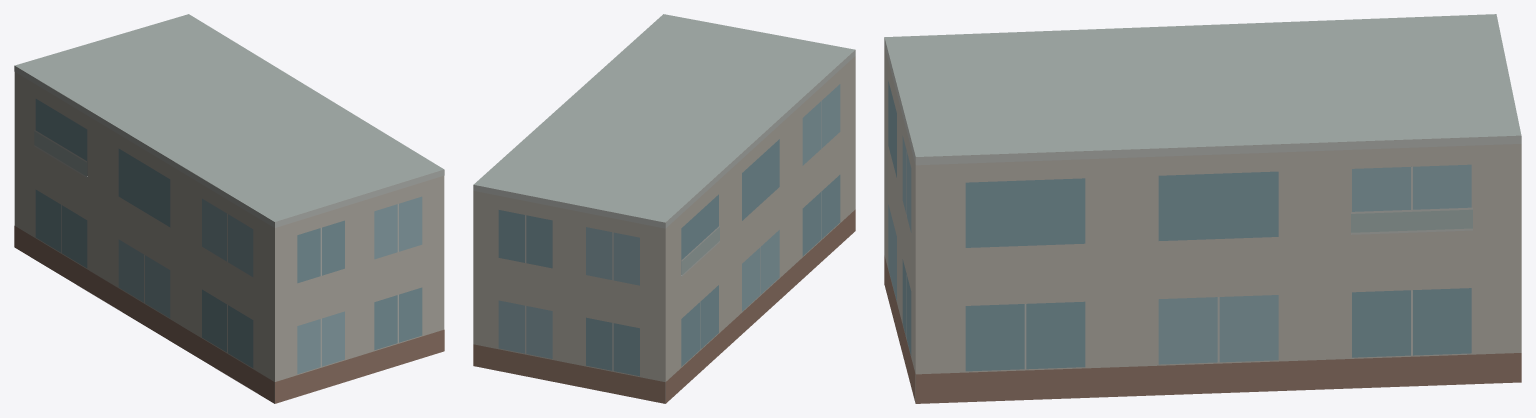
The model's file is survey-upis-32994029.glb.
3 views of the same model, side by side, from view 1: azimuth 30°, elevation 25°; view 2: azimuth 150°, elevation 25°; view 3: azimuth 270°, elevation 25° (orthographic). The views are drawn at different scales.
Parts seen in each view (by area): view 1: survey-upis-32994029.tmp; view 2: survey-upis-32994029.tmp; view 3: survey-upis-32994029.tmp.
Boxes of the visible parts, x1=… form: survey-upis-32994029.tmp: x1=14, y1=14, x2=444, y2=403; survey-upis-32994029.tmp: x1=473, y1=14, x2=855, y2=403; survey-upis-32994029.tmp: x1=884, y1=14, x2=1521, y2=403.
Size of the model in its own units: 9.09 by 7.3 by 17.09.
